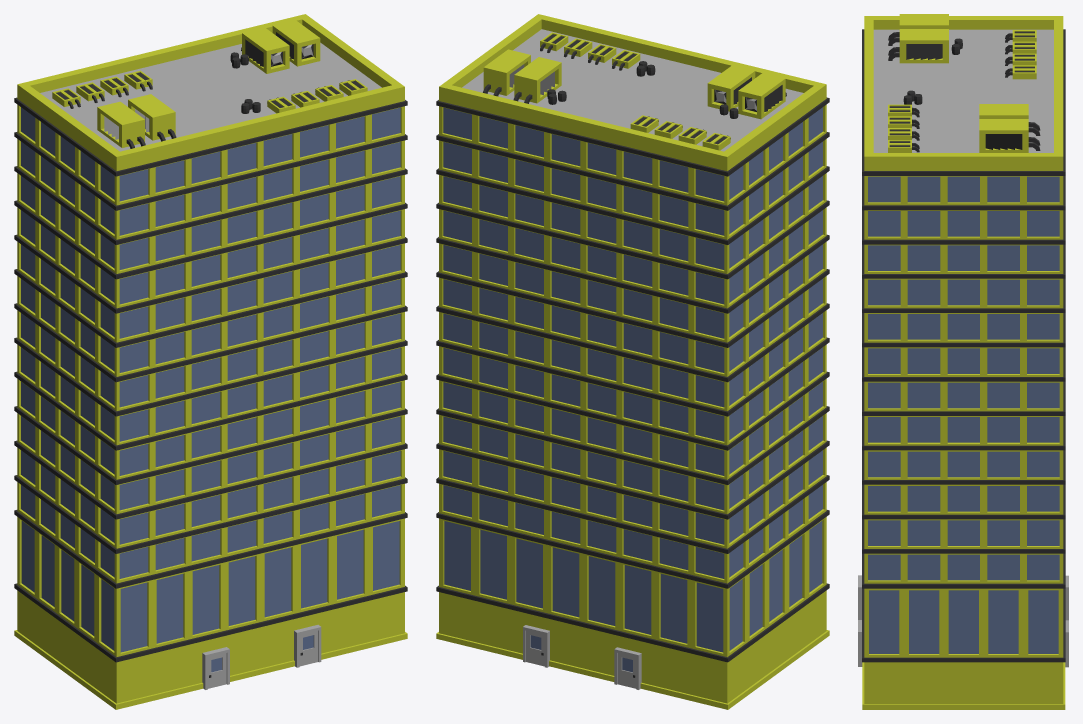
Rendered from RectangularSingleLevel.fbx.
3 views of the same model, side by side, from view 1: azimuth 30°, elevation 25°; view 2: azimuth 150°, elevation 25°; view 3: azimuth 270°, elevation 25° (orthographic).
Visible parts, largest first — view 1: Building2_1.001; view 2: Building2_1.001; view 3: Building2_1.001.
Boxes of the visible parts, bbox=[...] form: Building2_1.001: bbox=[14, 14, 407, 709]; Building2_1.001: bbox=[436, 14, 829, 709]; Building2_1.001: bbox=[858, 14, 1068, 709].
Bounding box in the file's own units: 1117 × 2067 × 698.
